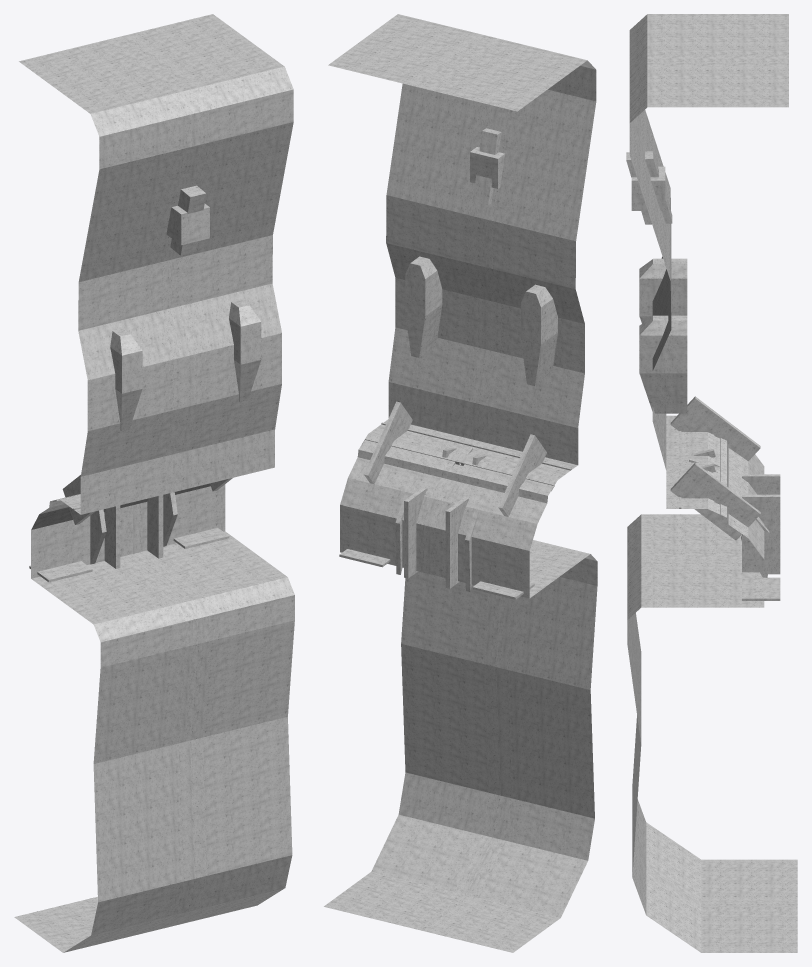
The model's file is brutaliststructure.fbx.
The picture shows the model from 3 angles, left to right: view 1: azimuth 30°, elevation 25°; view 2: azimuth 150°, elevation 25°; view 3: azimuth 270°, elevation 25°; orthographic projection. The views are drawn at different scales.
Visible parts, largest first — view 1: Plane.001; view 2: Plane.001; view 3: Plane.001.
Boxes of the visible parts, <box> form: Plane.001: <box>14,14,294,952</box>; Plane.001: <box>324,14,597,952</box>; Plane.001: <box>626,14,797,952</box>.
Bounding box in the file's own units: 2000 × 8445 × 1554.
